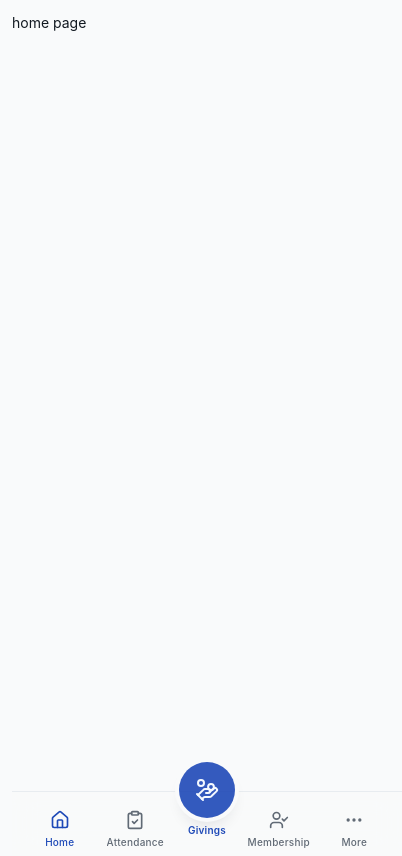
Test: MobileTabBar › navigates to the role’s Attendance landing
What coordinates should you click on to do the following:
click the link "Attendance"
I would click on:
 (135, 829)
Its box is [106, 810, 164, 848].
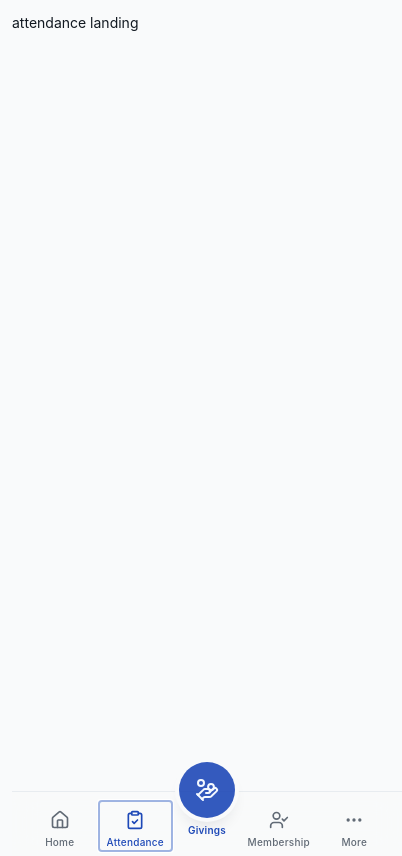
Expected: the text "attendance landing" is shown, [12, 14, 138, 31]
